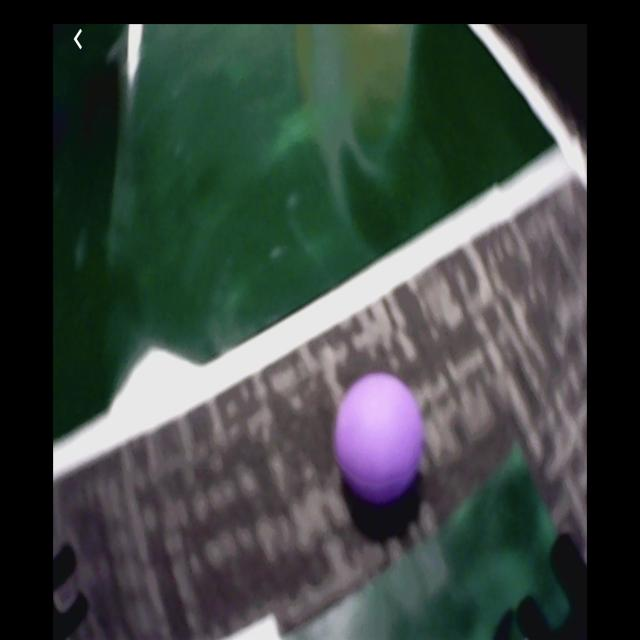ball: (334, 374, 423, 505)
